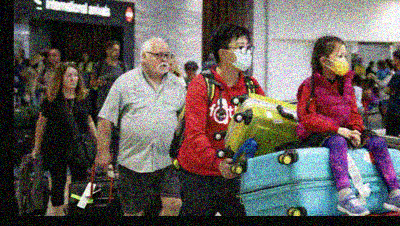with_mask: (225, 41, 253, 69), (328, 48, 350, 77)
without_mask: (149, 48, 172, 75), (63, 71, 79, 88), (45, 50, 60, 65), (109, 44, 120, 60), (185, 66, 197, 78)
